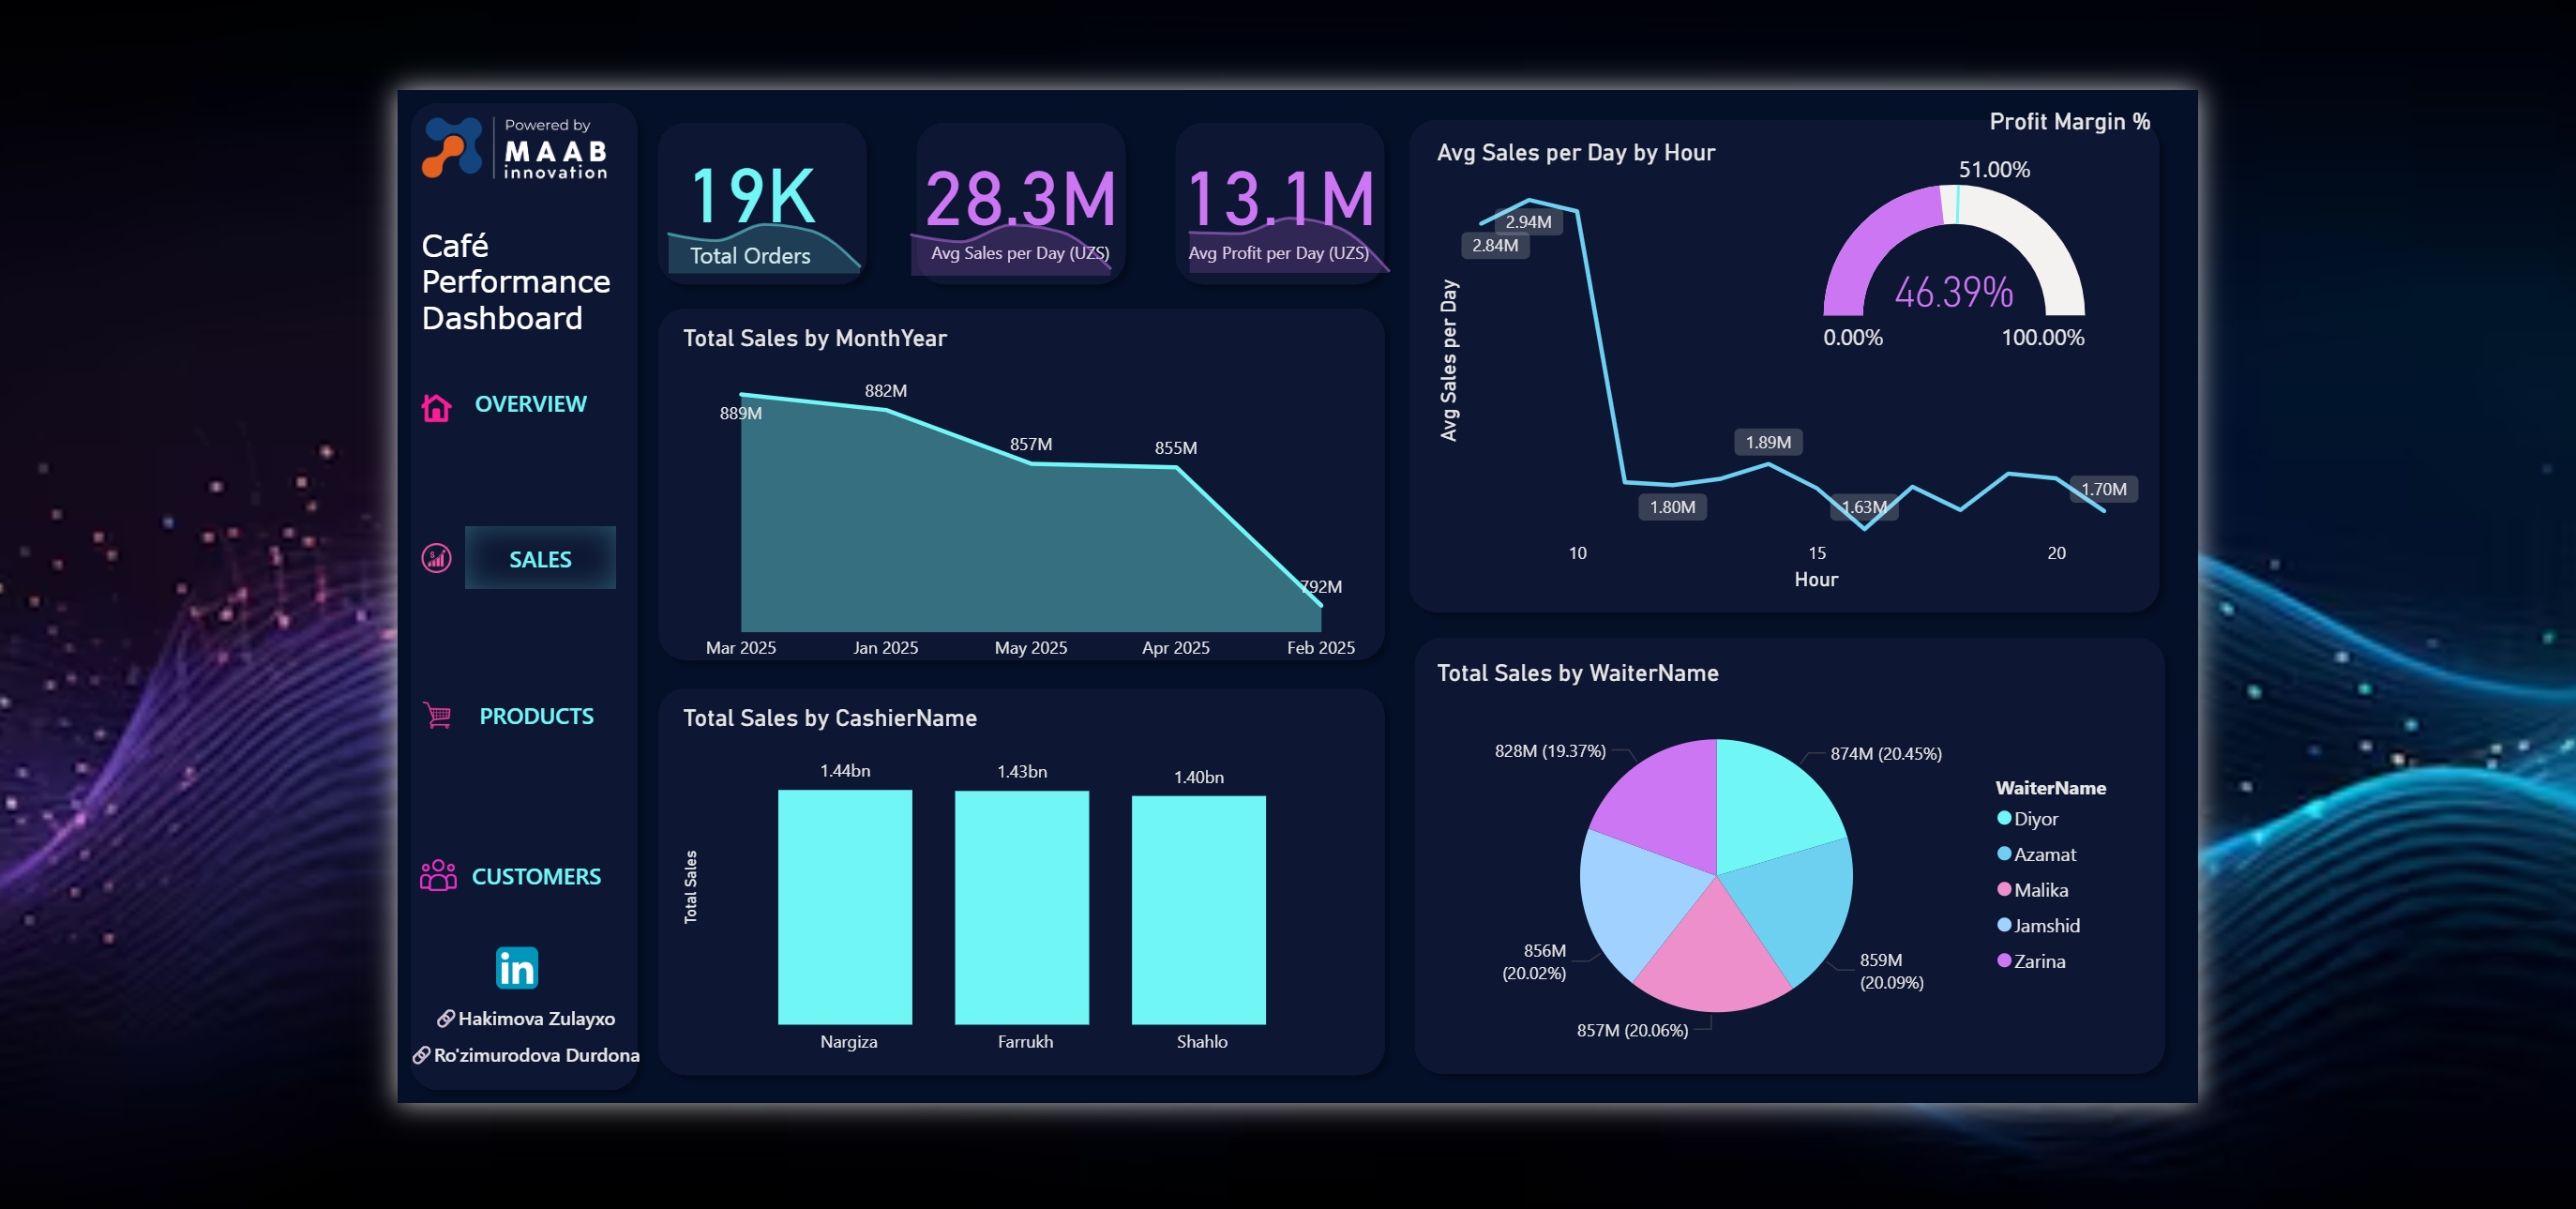

The dashboard page shown, as its layout file describes it:
{"tool":"powerbi","page":{"name":"Sales Performance","canvas":[1280,720],"ordinal":1},"visuals":[{"type":"shape","box":[713.3,380,551.7,328.3],"z":0},{"type":"shape","box":[175,146.7,535,268.3],"z":1000},{"type":"shape","box":[175,415,535,293.3],"z":2000},{"type":"shape","box":[175,13.3,166.7,133.3],"z":3000},{"type":"shape","box":[543.3,13.3,166.7,133.3],"z":4000},{"type":"shape","box":[0,0,180,720],"z":5000},{"type":"shape","box":[360,13.3,166.7,133.3],"z":6000},{"type":"shape","box":[710,11.7,551.7,368.3],"z":7000},{"type":"areaChart","fields":{"Category":["DimDate.MonthYear"],"Y":["DimDate.Total Sales"]},"box":[198.3,166.7,505,248.3],"z":8000},{"type":"lineChart","fields":{"Category":["SalesData.Hour"],"Y":["DimDate.Avg Revenue per Day"]},"box":[733.3,33.3,528.3,326.7],"z":9000},{"type":"clusteredColumnChart","fields":{"Category":["SalesData.CashierName"],"Y":["DimDate.Total Sales"]},"box":[198.3,435,480,258.3],"z":10000},{"type":"pieChart","fields":{"Y":["DimDate.Total Sales"],"Category":["SalesData.WaiterName"]},"box":[733.3,403.3,503.3,290],"z":11000},{"type":"card","fields":{"Values":["DimDate.Total Orders"]},"box":[175,21.7,150,113.3],"z":12000},{"type":"gauge","title":"Profit Margin % ","fields":{"Y":["DimDate.Profit Margin %"],"TargetValue":["DimDate.Target Profit Margin"]},"box":[962.3,12.7,289.5,184.5],"z":13000},{"type":"card","fields":{"Values":["DimDate.Avg Revenue per Day"]},"box":[368.3,18.3,150,120],"z":14000},{"type":"card","fields":{"Values":["DimDate.Avg Profit per Day"]},"box":[550,18.3,153.3,120],"z":15000},{"type":"image","box":[12,0,142,82],"z":16000},{"type":"lineChart","title":"Total Sales (UX","fields":{"Y":["DimDate.Avg Sales per Day"],"Category":["DimDate.Date.Variation.Date Hierarchy.Month"]},"box":[346.7,71.7,180,65],"z":17000},{"type":"lineChart","title":"Total Sales (UX","fields":{"Y":["DimDate.Avg Profit per Day"],"Category":["DimDate.Date.Variation.Date Hierarchy.Month"]},"box":[543.3,70,180,65],"z":18000},{"type":"lineChart","title":"Total Sales (UX","fields":{"Y":["DimDate.Avg Sales per Day"],"Category":["DimDate.Date.Variation.Date Hierarchy.Month"]},"box":[173.3,71.7,173.3,63.3],"z":19000},{"type":"textbox","box":[12,92,160,94],"z":20000},{"type":"group","id":"g1","title":"Group 1","box":[10,210,38,366],"z":21000},{"type":"actionButton","box":[36,202,118,40],"z":22000},{"type":"actionButton","box":[47.5,310,107.5,45],"z":23000},{"type":"actionButton","box":[36,424,126,40],"z":24000},{"type":"actionButton","box":[36,536,126,44],"z":25000},{"type":"image","box":[56,604,58,40],"z":25001},{"type":"actionButton","box":[0,638,180,46],"z":25002},{"type":"actionButton","box":[0,664,180,46],"z":25003},{"type":"image","box":[11,416.6,32.6,56.5],"z":27000,"group":"g1"},{"type":"image","box":[12.2,310.2,31.4,45.6],"z":28000,"group":"g1"},{"type":"image","box":[10,540,38,36],"z":29000,"group":"g1"},{"type":"image","box":[10,210,36,32],"z":30000,"group":"g1"}]}

Visuals, with their boxes on the page's 1280x720 design canvas (x1, y1, x2, y2). These are canvas units, not pixel positions in the 2576x1209 screenshot, which may show the page scaled, cropped or inside an application window:
shape: crop(713, 380, 1265, 708)
shape: crop(175, 147, 710, 415)
shape: crop(175, 415, 710, 708)
shape: crop(175, 13, 342, 147)
shape: crop(543, 13, 710, 147)
shape: crop(0, 0, 180, 720)
shape: crop(360, 13, 527, 147)
shape: crop(710, 12, 1262, 380)
areaChart - DimDate.MonthYear x DimDate.Total Sales: crop(198, 167, 703, 415)
lineChart - SalesData.Hour x DimDate.Avg Revenue per Day: crop(733, 33, 1262, 360)
clusteredColumnChart - SalesData.CashierName x DimDate.Total Sales: crop(198, 435, 678, 693)
pieChart - DimDate.Total Sales x SalesData.WaiterName: crop(733, 403, 1237, 693)
card - DimDate.Total Orders: crop(175, 22, 325, 135)
"Profit Margin % " gauge: crop(962, 13, 1252, 197)
card - DimDate.Avg Revenue per Day: crop(368, 18, 518, 138)
card - DimDate.Avg Profit per Day: crop(550, 18, 703, 138)
image: crop(12, 0, 154, 82)
"Total Sales (UX" lineChart: crop(347, 72, 527, 137)
"Total Sales (UX" lineChart: crop(543, 70, 723, 135)
"Total Sales (UX" lineChart: crop(173, 72, 347, 135)
textbox: crop(12, 92, 172, 186)
"Group 1" group: crop(10, 210, 48, 576)
actionButton: crop(36, 202, 154, 242)
actionButton: crop(48, 310, 155, 355)
actionButton: crop(36, 424, 162, 464)
actionButton: crop(36, 536, 162, 580)
image: crop(56, 604, 114, 644)
actionButton: crop(0, 638, 180, 684)
actionButton: crop(0, 664, 180, 710)
image: crop(11, 417, 44, 473)
image: crop(12, 310, 44, 356)
image: crop(10, 540, 48, 576)
image: crop(10, 210, 46, 242)
